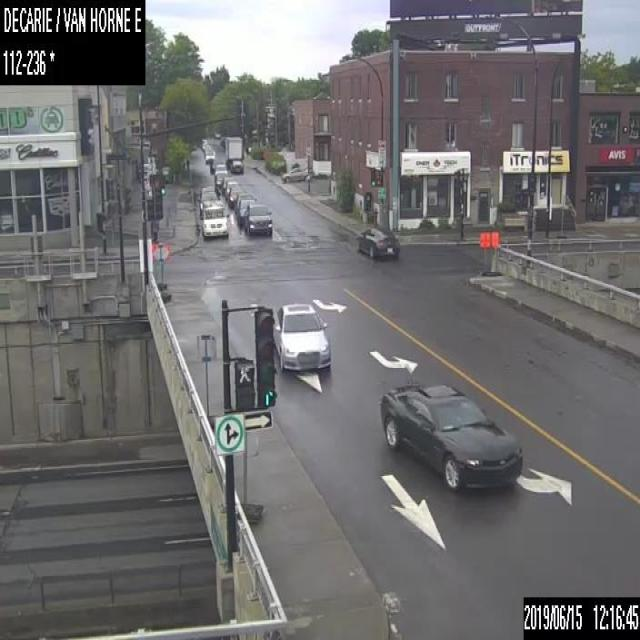construction: (194, 332, 218, 428), (239, 426, 262, 522), (152, 238, 172, 302), (488, 229, 500, 274), (477, 231, 489, 274)
vehicle: (379, 378, 523, 491), (273, 301, 331, 371), (354, 225, 399, 256), (198, 203, 229, 237), (242, 203, 272, 235), (197, 185, 221, 218), (233, 198, 256, 224), (224, 136, 243, 167), (227, 186, 245, 208), (280, 167, 308, 181), (235, 192, 256, 210), (213, 172, 229, 190), (224, 180, 238, 198), (220, 175, 232, 193), (214, 164, 227, 178), (229, 160, 243, 172), (204, 147, 214, 162), (210, 159, 220, 173)
